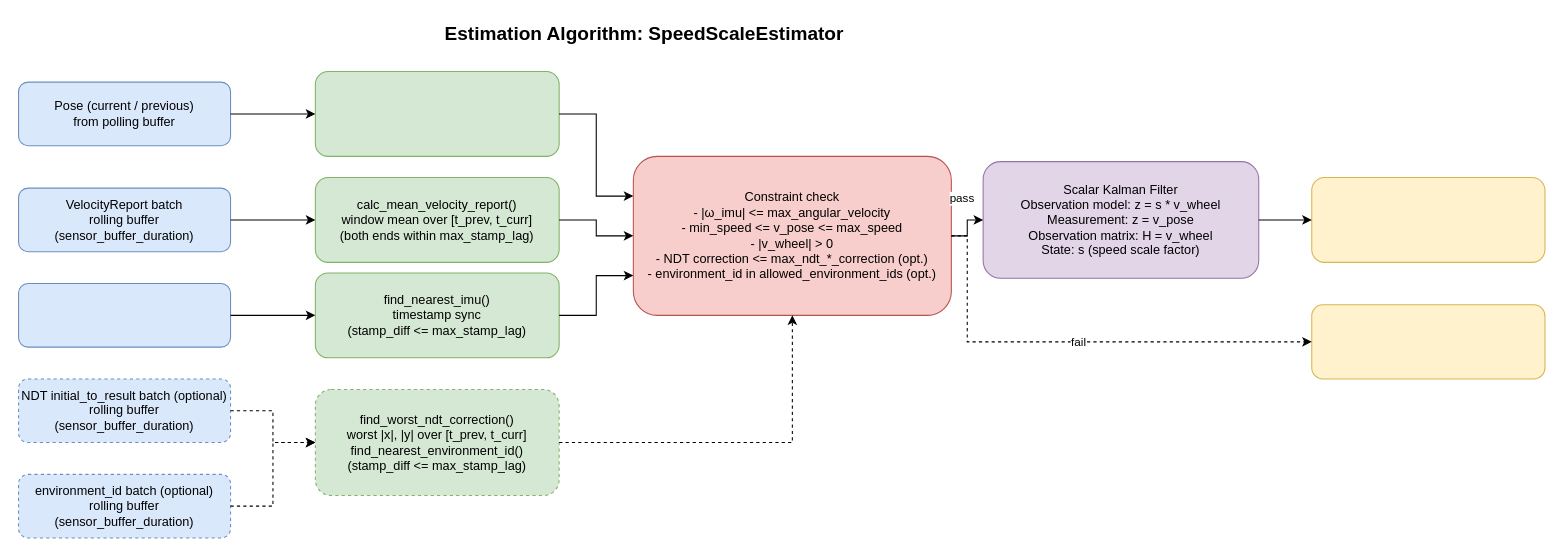
This 1563x557 diagram has some shape labels left out. Here are the shapes that lost their labels. From the top down, the centre of each, then its label:
At point 436,113: "calc_pose_velocity() body-axis proj. / dt skip if dt > max_pose_lag".
At point 1428,219: "Updated result estimated_speed_scale_factor covariance, K, v_pose, v_wheel".
At point 124,314: "IMU batch rolling buffer (sensor_buffer_duration)".
At point 1428,341: "Not updated keep previous scale factor UpdateFailureReason".
